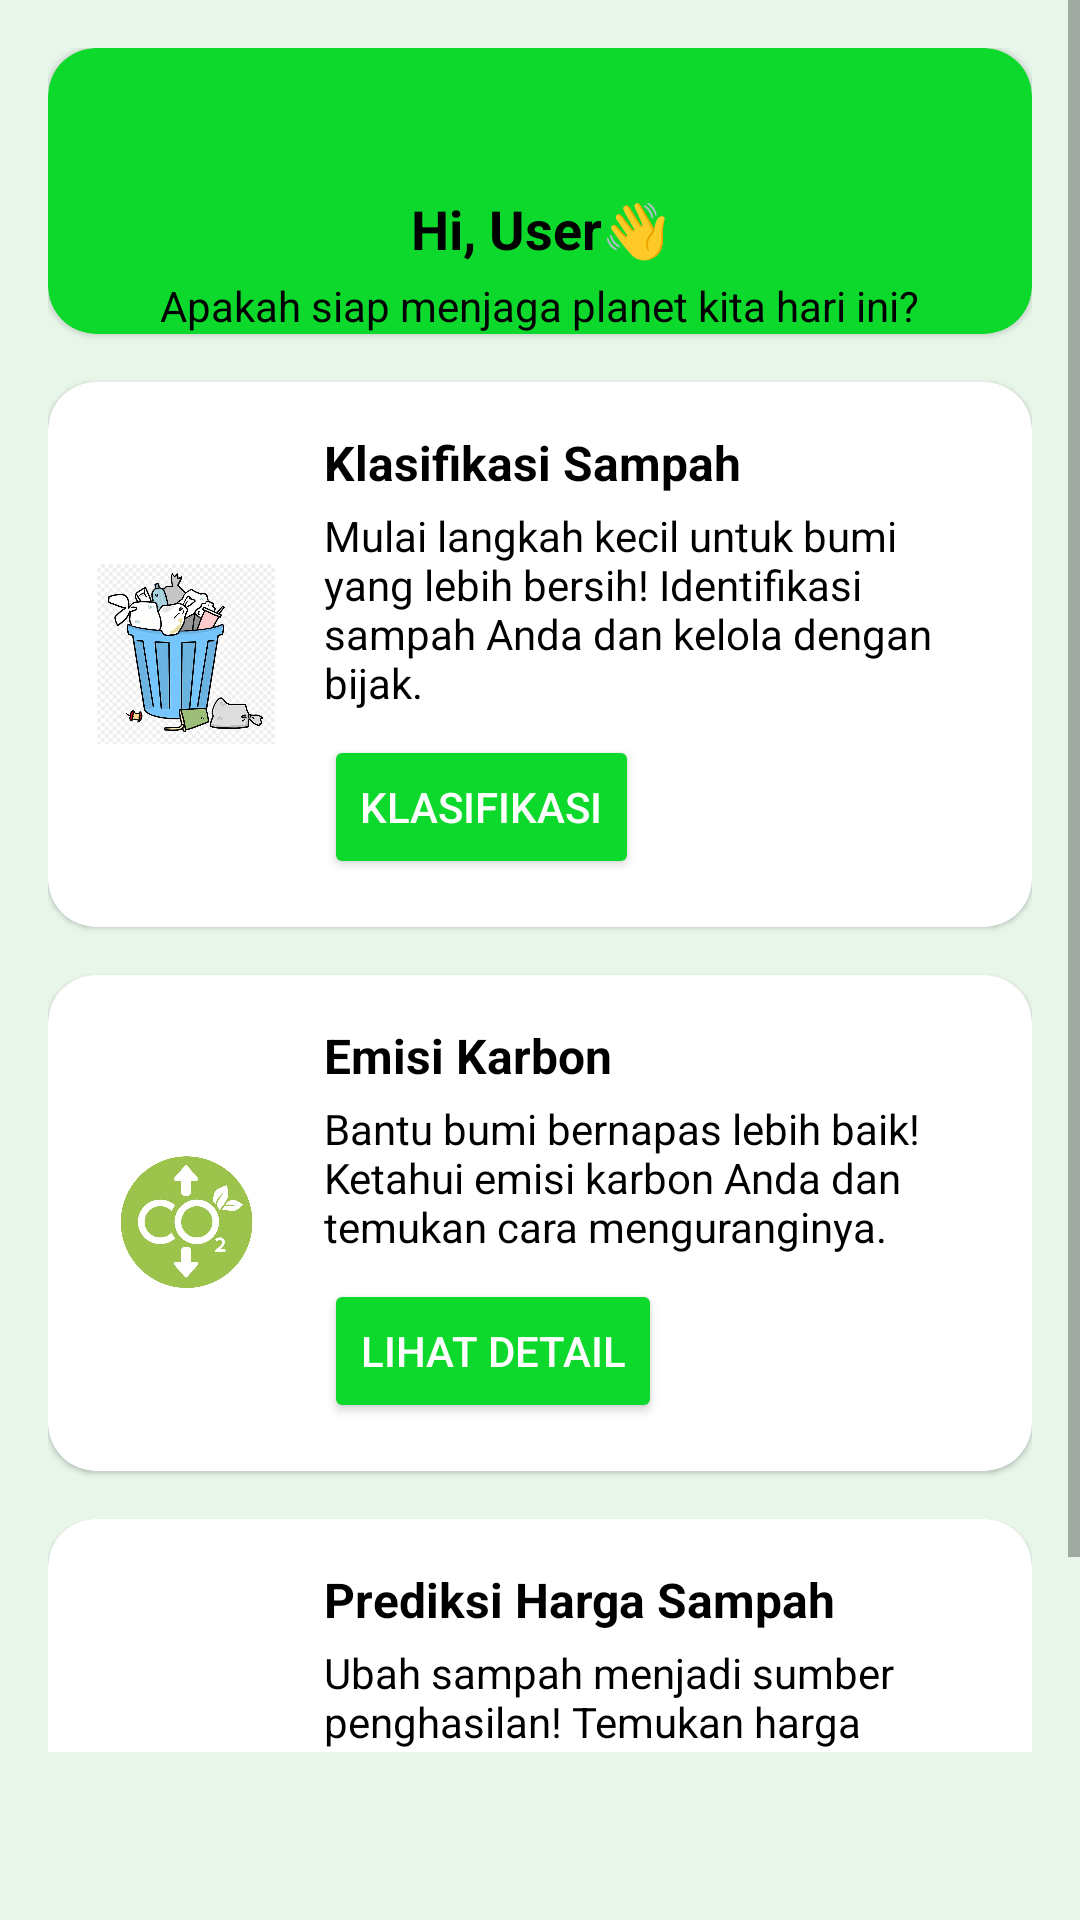

Where to tap for icons on this 1080w x 1920h app screen, as (x,y):
carbon emission: (187,1222)
trash: (186,652)
